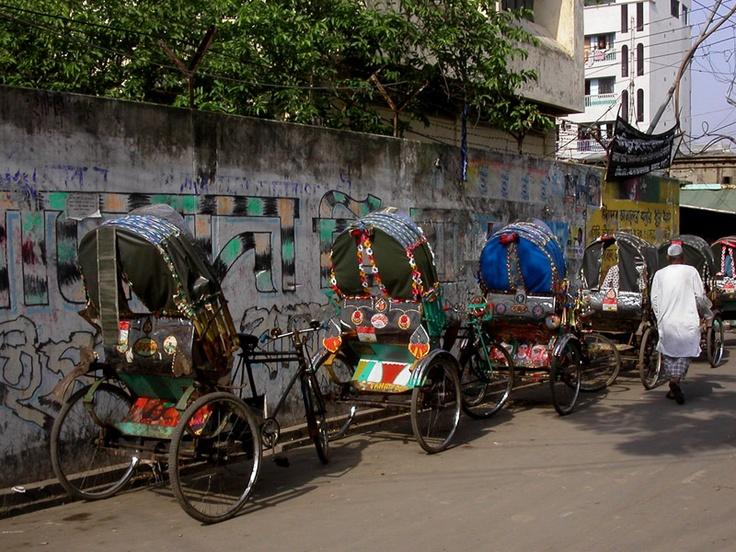Rickshaw: (47, 202, 331, 530), (317, 209, 514, 452), (461, 222, 617, 414), (580, 232, 660, 386), (658, 234, 723, 366), (711, 235, 735, 319)
